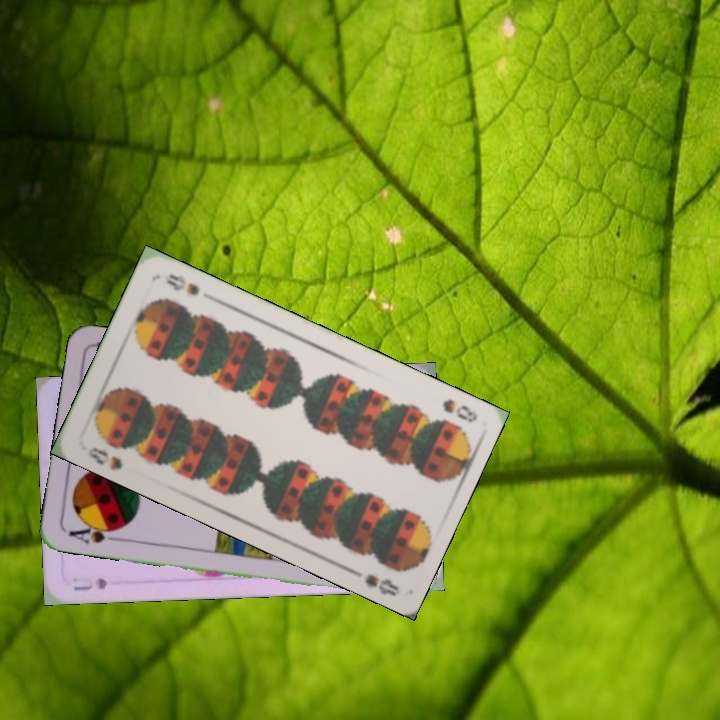S8: (438, 394, 480, 426), (84, 443, 125, 473)
SA: (65, 518, 124, 547)
SU: (69, 574, 110, 594)
